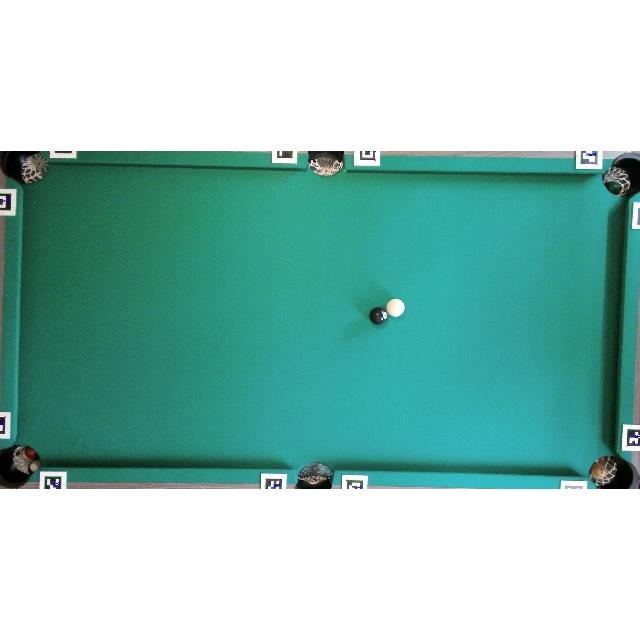cue ball: (386, 298, 405, 317)
other: (368, 306, 388, 326)
